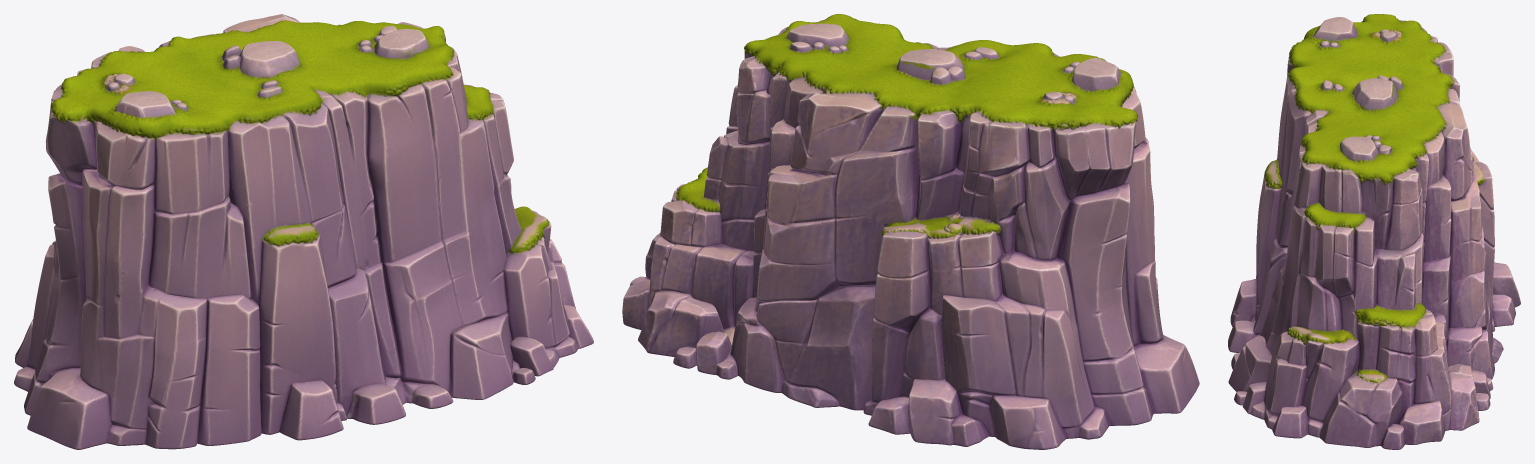
Rendered from 18-rock-steps.glb.
The picture shows the model from 3 angles, left to right: view 1: azimuth 30°, elevation 25°; view 2: azimuth 150°, elevation 25°; view 3: azimuth 270°, elevation 25°; orthographic projection. The views are drawn at different scales.
Size of the model in its own units: 1.9 by 1.07 by 1.11.
1 material, 1 textured.
